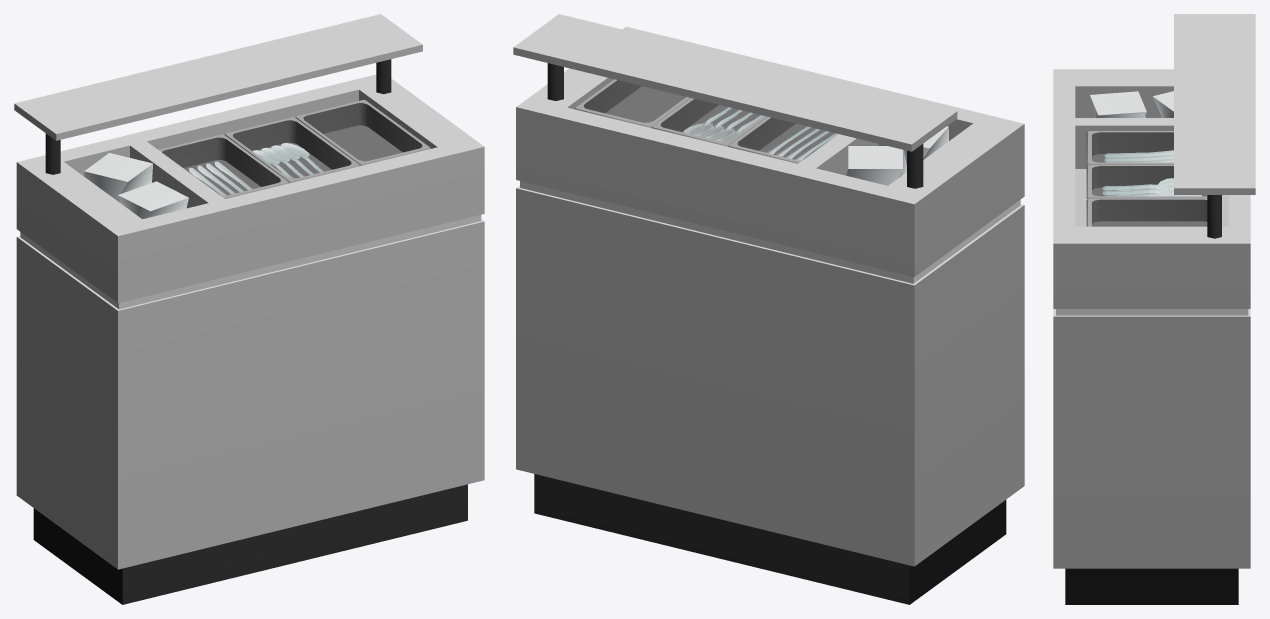
Rendered from CR_caf_Cutlerybox_001.FBX.
3 views of the same model, side by side, from view 1: azimuth 30°, elevation 25°; view 2: azimuth 150°, elevation 25°; view 3: azimuth 270°, elevation 25° (orthographic). The views are drawn at different scales.
Parts seen in each view (by area): view 1: CR_caf_Cutlerybox_001; view 2: CR_caf_Cutlerybox_001; view 3: CR_caf_Cutlerybox_001.
Part boxes in pixels (x1,y1,x2,y2): CR_caf_Cutlerybox_001: (14, 14, 484, 604); CR_caf_Cutlerybox_001: (513, 14, 1024, 604); CR_caf_Cutlerybox_001: (1053, 14, 1255, 604).
Size of the model in its own units: 58.63 by 66.11 by 28.74.
